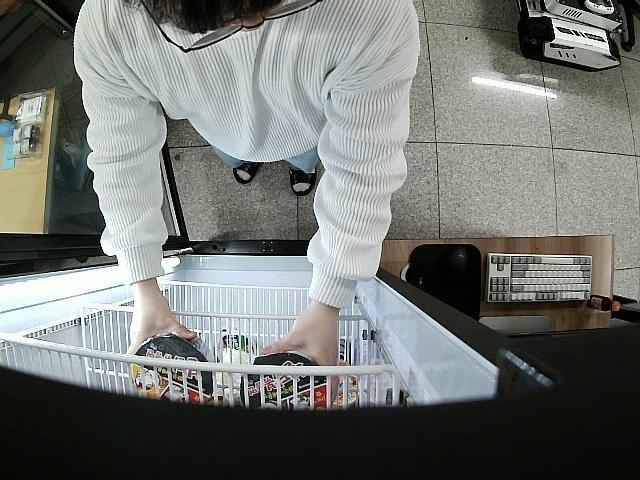07_buldak_L: (132, 332, 215, 411), (242, 350, 328, 419)
